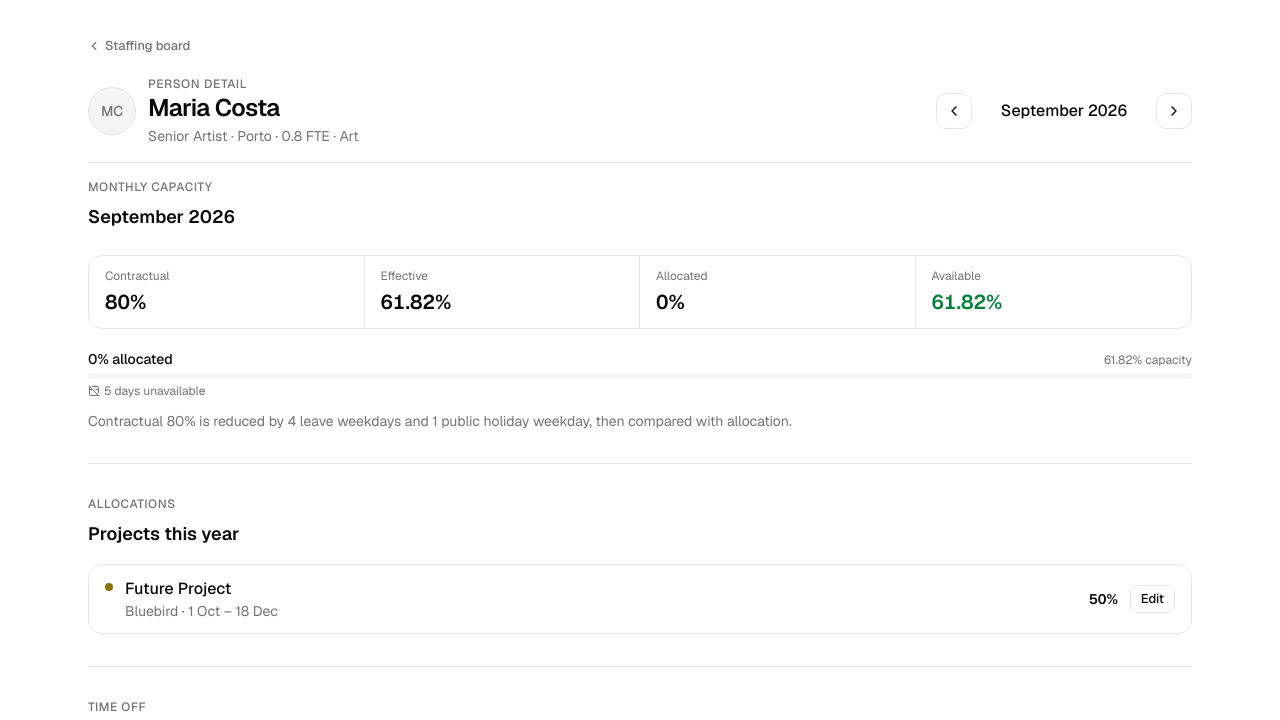
PersonDetailView › allows editing a future project without changing the selected month
Expected: the text "Bluebird · 1 Oct – 18 Dec" is shown, [125, 601, 278, 621]
Click the button "Edit": (1152, 599) [1130, 585, 1175, 613]
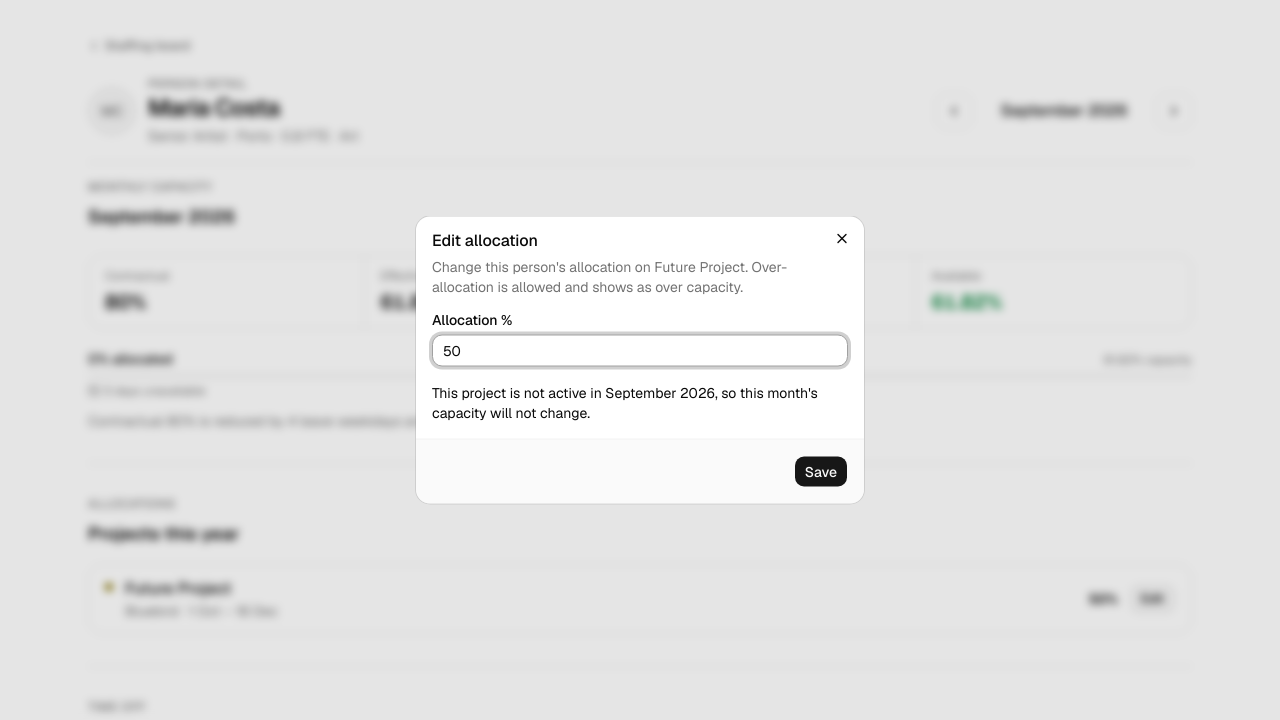
Now the text "not active in September 2026, so this month's capacity will not change" is shown, box [432, 382, 848, 422]
